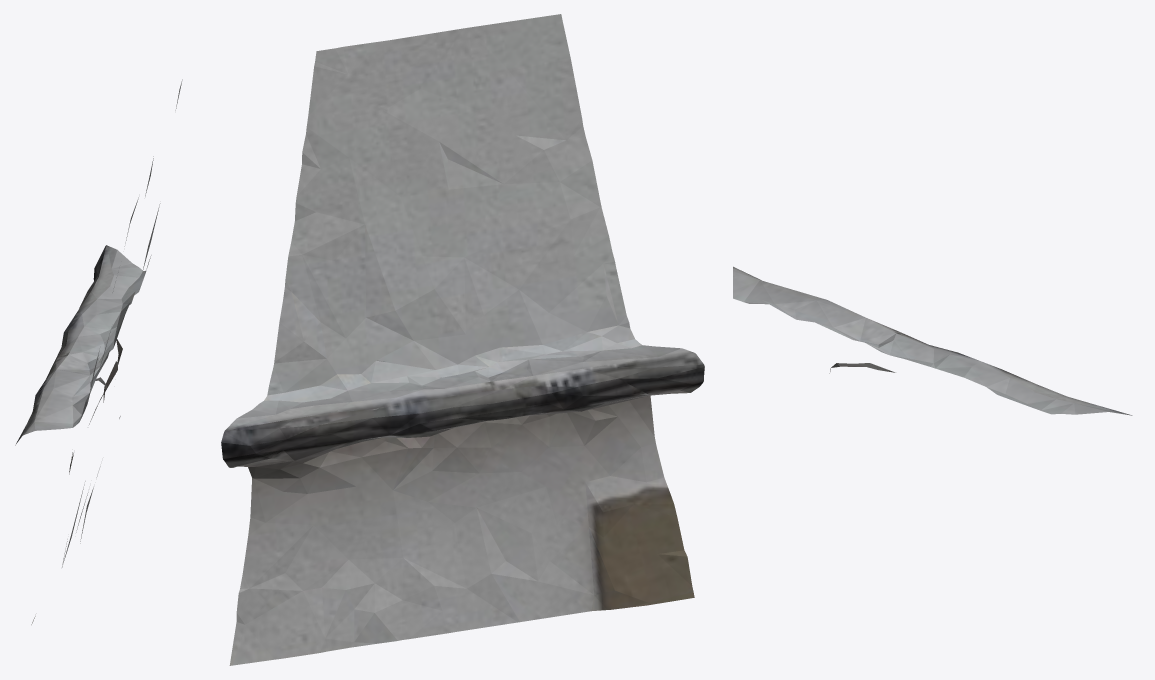
3 views of the same model, side by side, from view 1: azimuth 30°, elevation 25°; view 2: azimuth 150°, elevation 25°; view 3: azimuth 270°, elevation 25° (orthographic). The views are drawn at different scales.
Size of the model in its own units: 0.4595 by 0.8374 by 0.536.
Materials: 2 (2 with a texture image).
